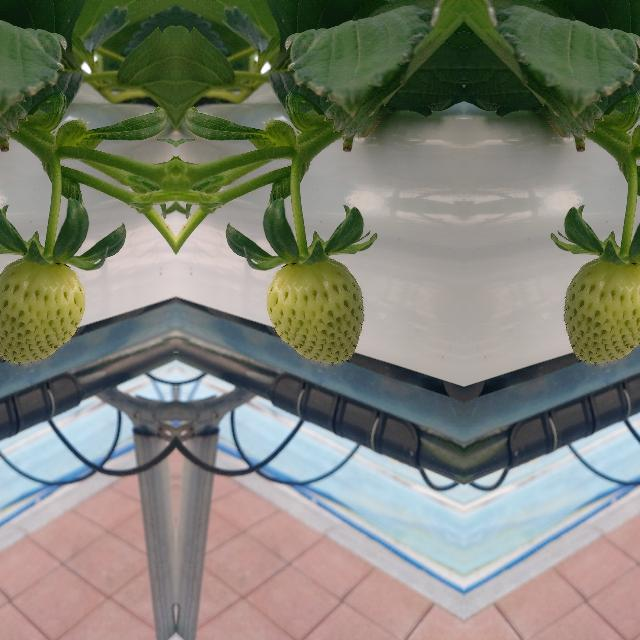Health_25: (264, 258, 364, 366), (0, 258, 85, 366), (562, 258, 640, 366)
